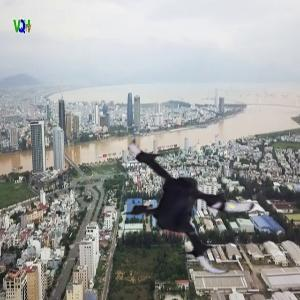drone: (109, 118, 277, 286)
